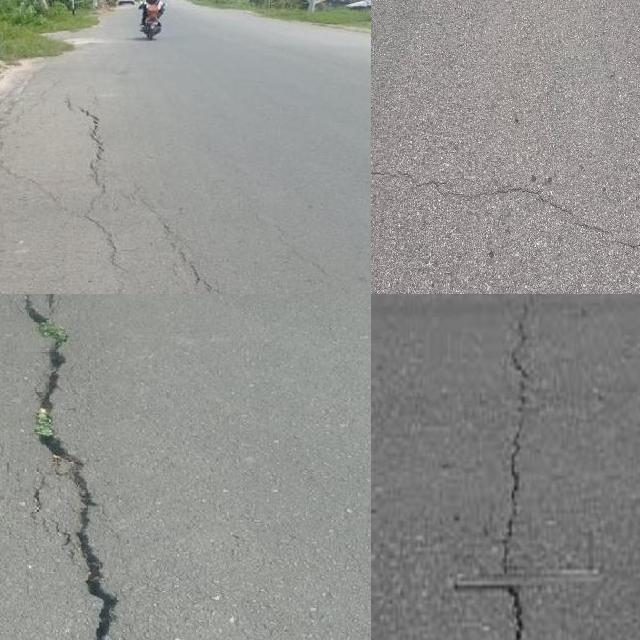Melintang: (371, 154, 640, 264)
Memanjang: (20, 294, 116, 640), (486, 294, 549, 640), (74, 90, 127, 282)
